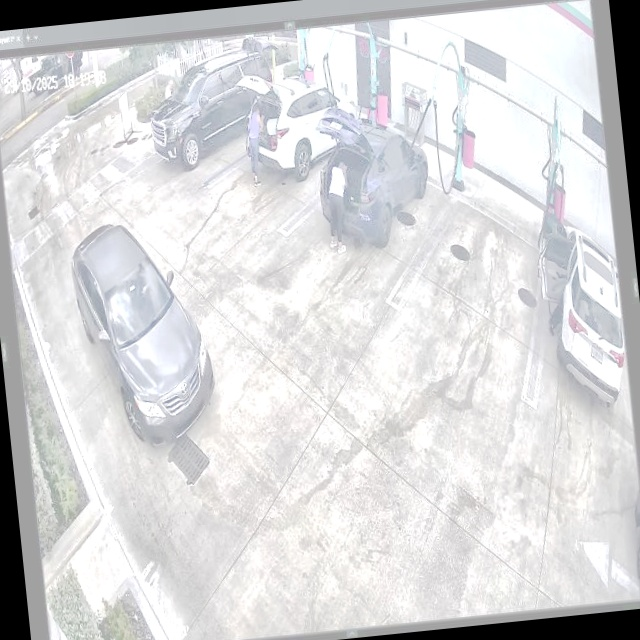Car: (68, 213, 221, 452), (312, 100, 436, 253), (144, 49, 280, 166), (239, 64, 362, 180)
